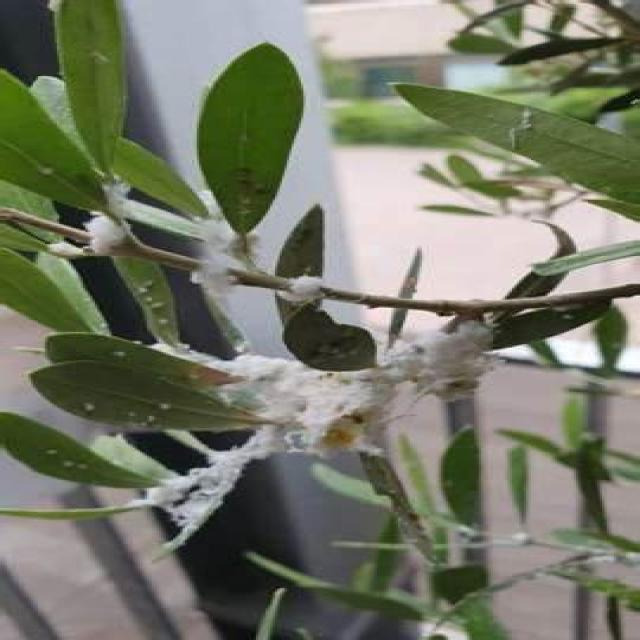Psyllid: (123, 319, 491, 555), (55, 183, 140, 259), (190, 248, 256, 299), (275, 276, 337, 304)
